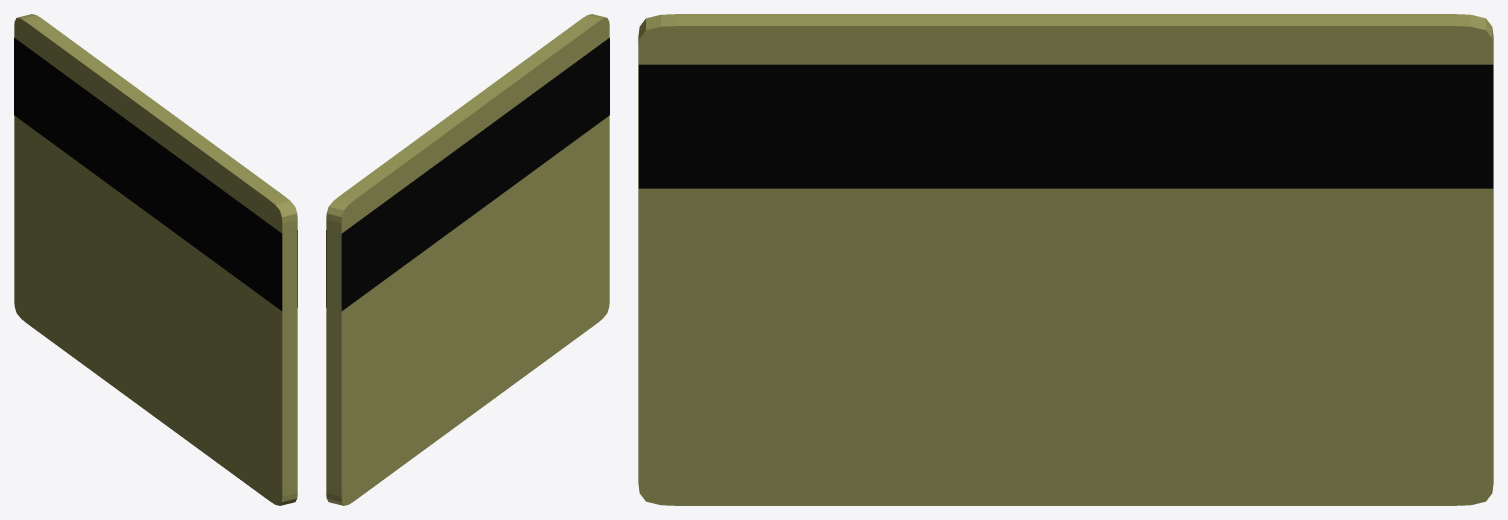
Rendered from card.glb.
The picture shows the model from 3 angles, left to right: view 1: azimuth 30°, elevation 25°; view 2: azimuth 150°, elevation 25°; view 3: azimuth 270°, elevation 25°; orthographic projection. The views are drawn at different scales.
Parts seen in each view (by area): view 1: Cube, Cube.001; view 2: Cube, Cube.001; view 3: Cube, Cube.001.
Boxes of the visible parts, x1,y1,x2,y2 form: Cube: (14,14,297,505); Cube.001: (14,37,297,310); Cube: (326,14,609,505); Cube.001: (326,37,609,310); Cube: (638,14,1493,505); Cube.001: (638,64,1493,188).
Bounding box in the file's own units: 0.00964 × 0.1761 × 0.2843.
